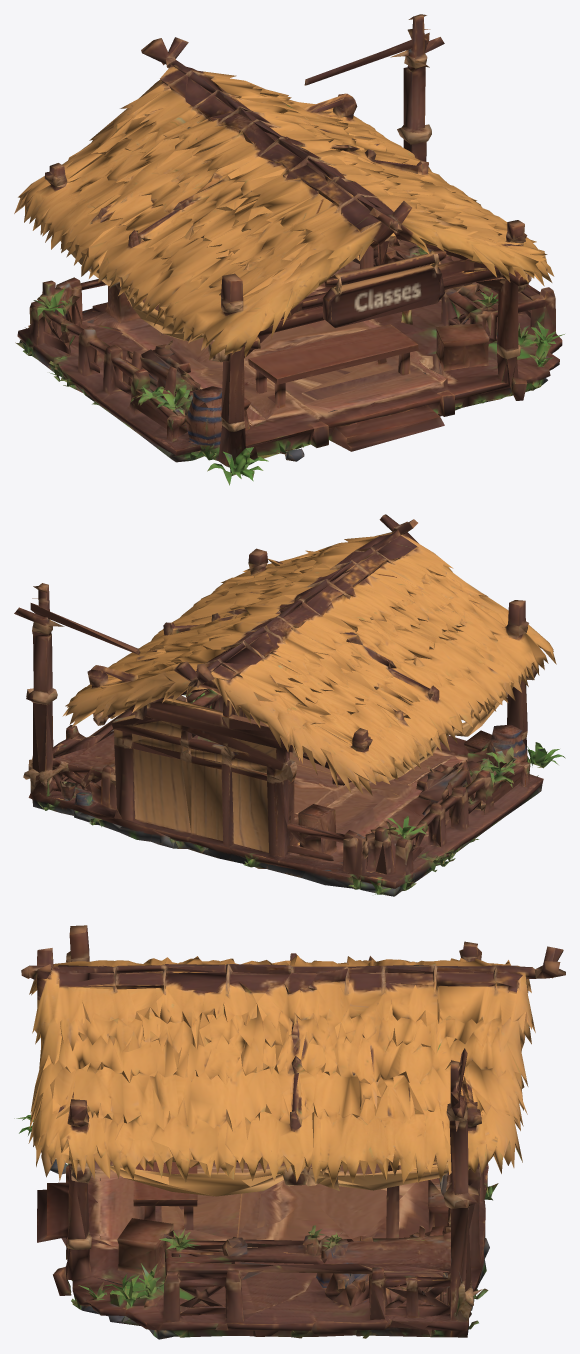
Rendered from ClassHut.glb.
3 views of the same model, one above another, from view 1: azimuth 30°, elevation 25°; view 2: azimuth 150°, elevation 25°; view 3: azimuth 270°, elevation 25° (orthographic). The views are drawn at different scales.
Visible parts, largest first — view 1: ClassHut; view 2: ClassHut; view 3: ClassHut.
Part boxes in pixels (left/top/right/bottom): ClassHut: left=14, top=14, right=564, bottom=485; ClassHut: left=14, top=514, right=565, bottom=896; ClassHut: left=14, top=925, right=565, bottom=1339.
Size of the model in its own units: 1.86 by 0.9866 by 1.81.
1 material, 1 textured.
